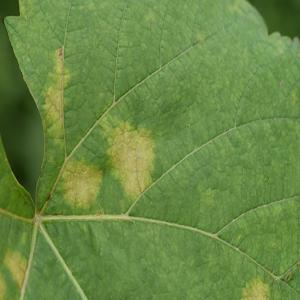Folha: (0, 0, 299, 299)
Fungo: (40, 46, 156, 214), (60, 120, 156, 212), (106, 120, 156, 199), (42, 45, 70, 160), (60, 159, 102, 210), (1, 247, 33, 287), (240, 277, 271, 299), (0, 271, 6, 300), (46, 192, 51, 201)
